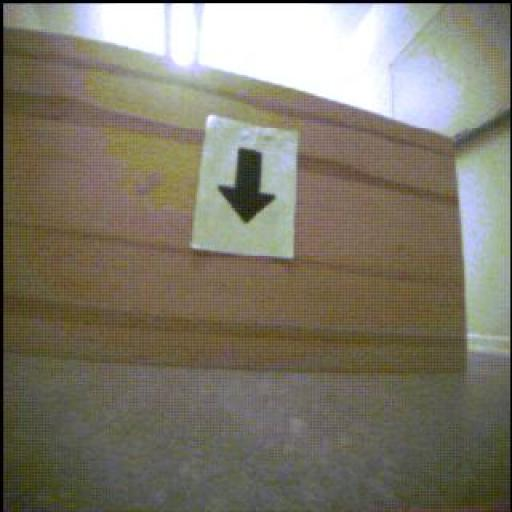Arrow: (220, 149, 276, 224)
